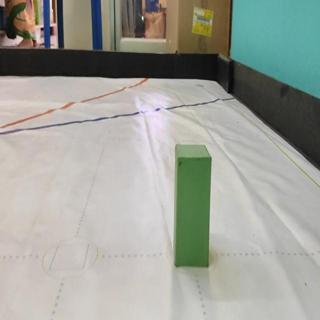greenbox: (173, 143, 212, 267)
